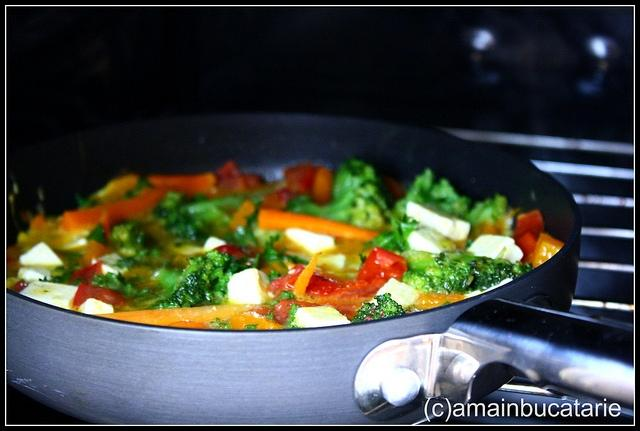bell pepper: (61, 187, 167, 230), (90, 304, 274, 326), (270, 264, 372, 297), (355, 246, 408, 288), (148, 170, 218, 200), (512, 209, 544, 264), (72, 282, 127, 308), (528, 233, 564, 268), (284, 162, 314, 194), (68, 260, 104, 285), (217, 174, 263, 192), (215, 160, 242, 184), (383, 176, 406, 202), (213, 244, 246, 259), (275, 186, 294, 202)
broccoli: (286, 158, 386, 232), (146, 250, 252, 310), (400, 249, 532, 296), (392, 168, 472, 224), (153, 191, 215, 245), (108, 218, 164, 264), (463, 190, 512, 232), (90, 270, 150, 300), (350, 292, 406, 324)
carrot: (61, 185, 168, 232), (90, 304, 270, 326), (258, 209, 380, 240), (292, 251, 322, 302), (526, 232, 564, 268), (148, 172, 216, 192), (230, 314, 284, 330)
